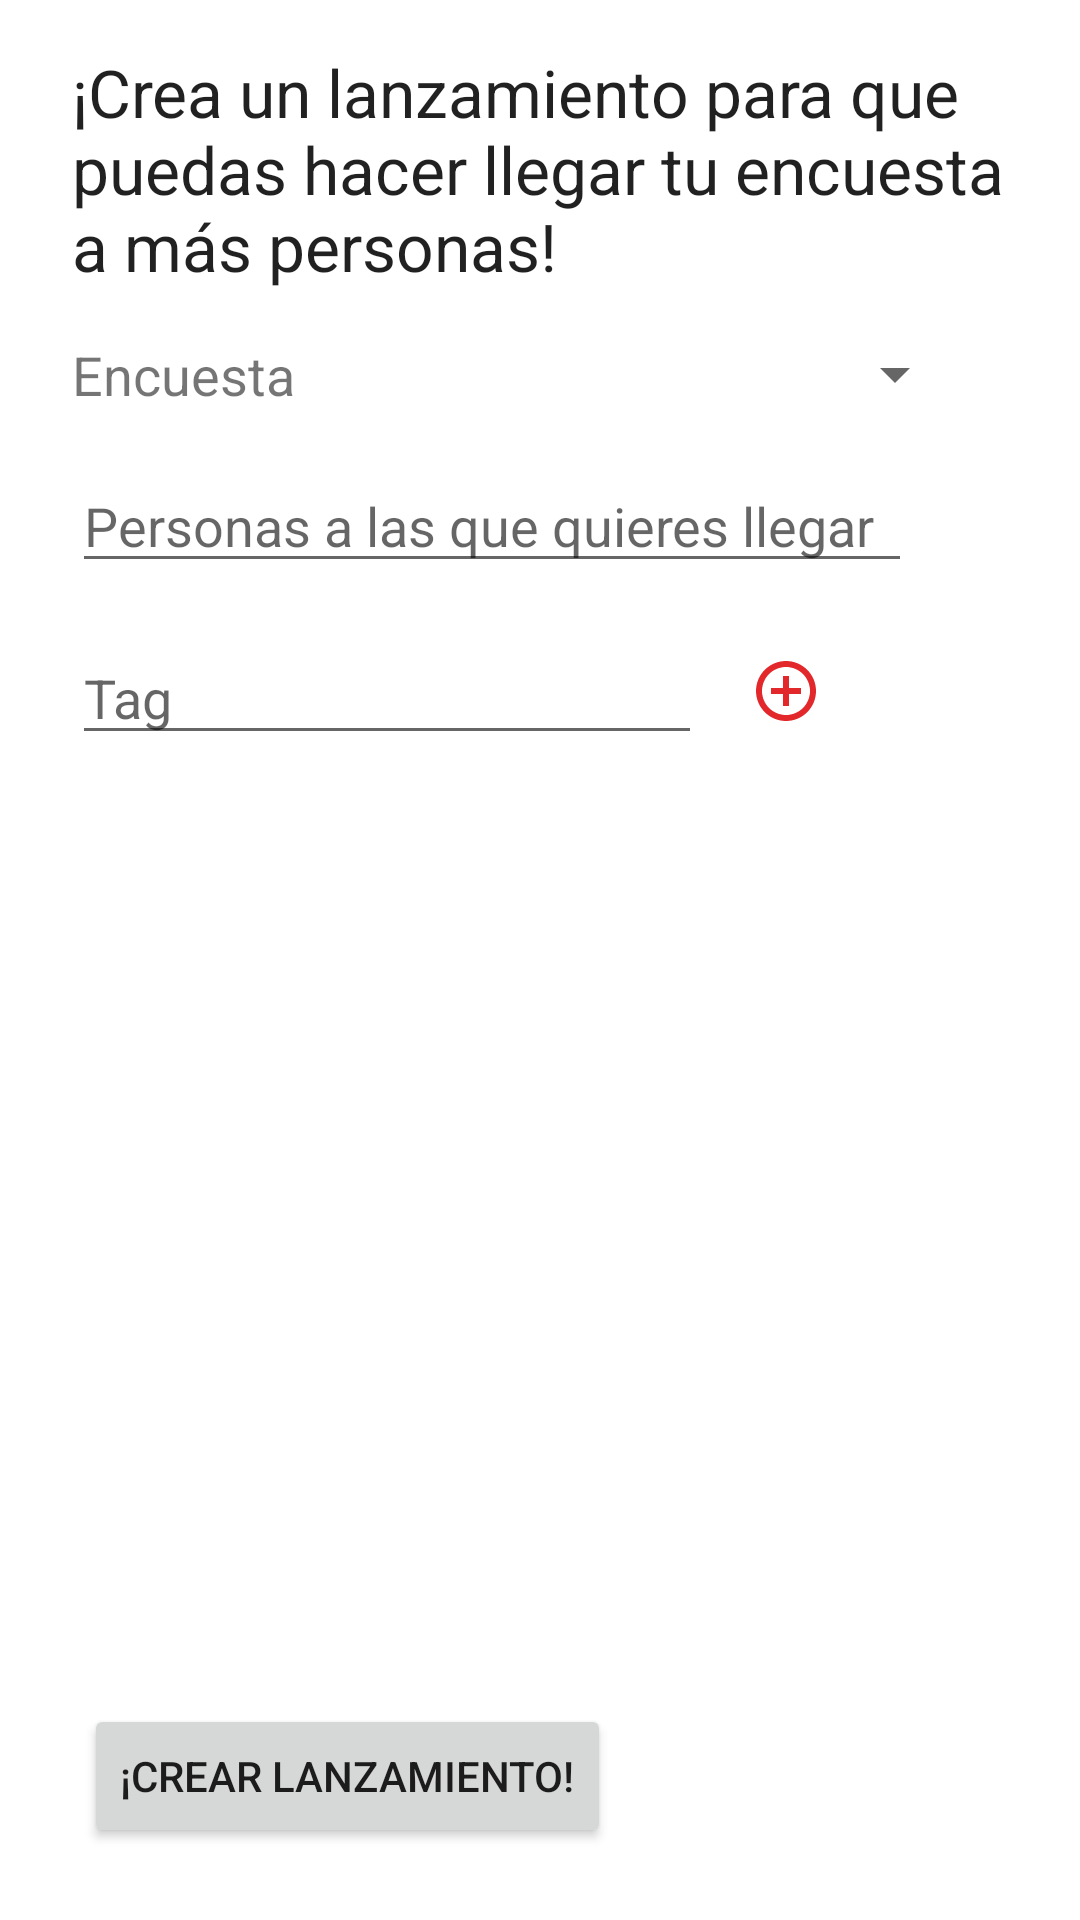

Icons on this 1080x1920 Android screen, each with its box as (x1, y1, x2, y2):
add circle: (756, 661, 816, 721)
